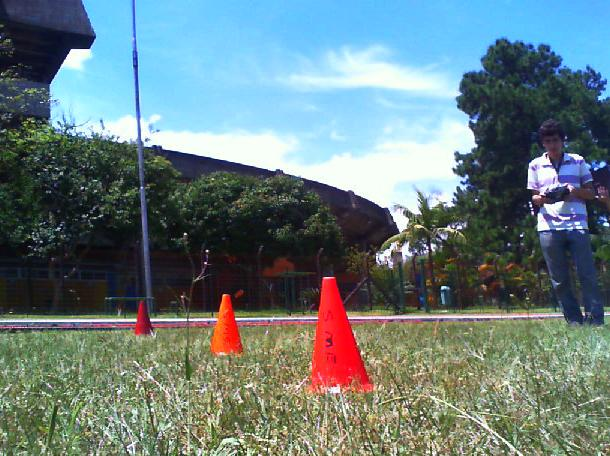0 cone: (304, 278, 379, 396), (208, 294, 244, 356), (133, 301, 154, 337)
